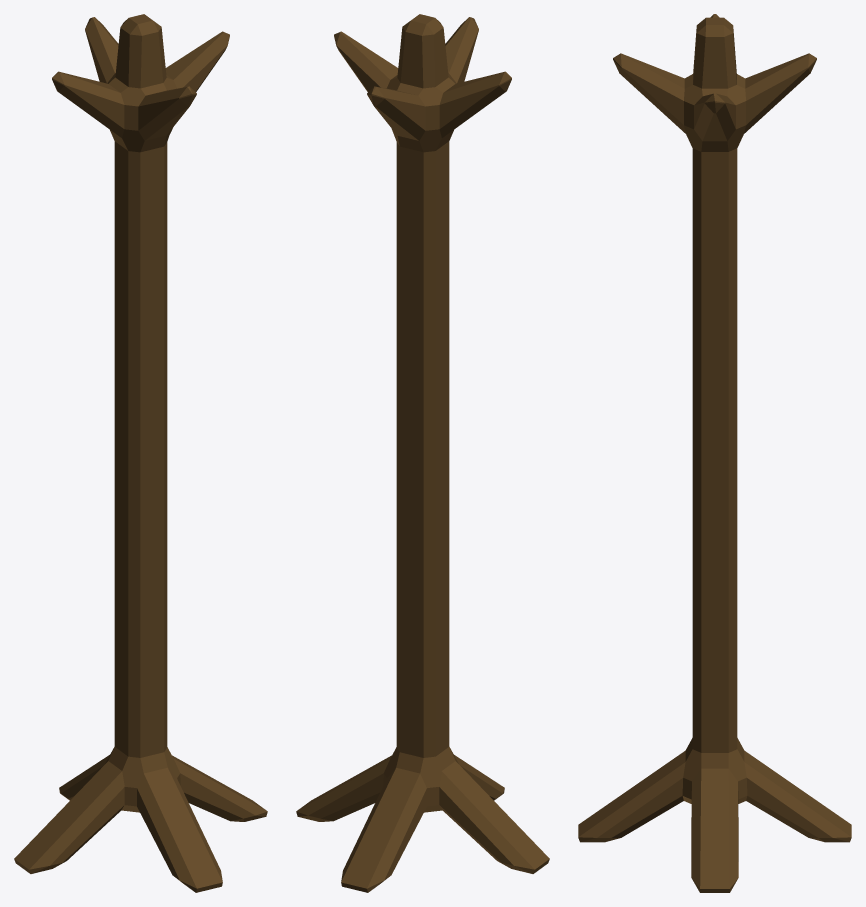
File: Cabideiro.fbx
The picture shows the model from 3 angles, left to right: view 1: azimuth 30°, elevation 25°; view 2: azimuth 150°, elevation 25°; view 3: azimuth 270°, elevation 25°; orthographic projection.
Visible parts, largest first — view 1: Cabideiro; view 2: Cabideiro; view 3: Cabideiro.
Boxes of the visible parts, bbox=[...] form: Cabideiro: bbox=[14, 14, 267, 892]; Cabideiro: bbox=[296, 14, 549, 892]; Cabideiro: bbox=[578, 14, 851, 892].
Bounding box in the file's own units: 45.41 × 149 × 45.41.
